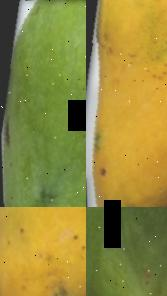Ripe: (86, 0, 167, 207), (0, 207, 86, 296)
Unripe: (0, 0, 86, 207), (86, 207, 167, 296)
